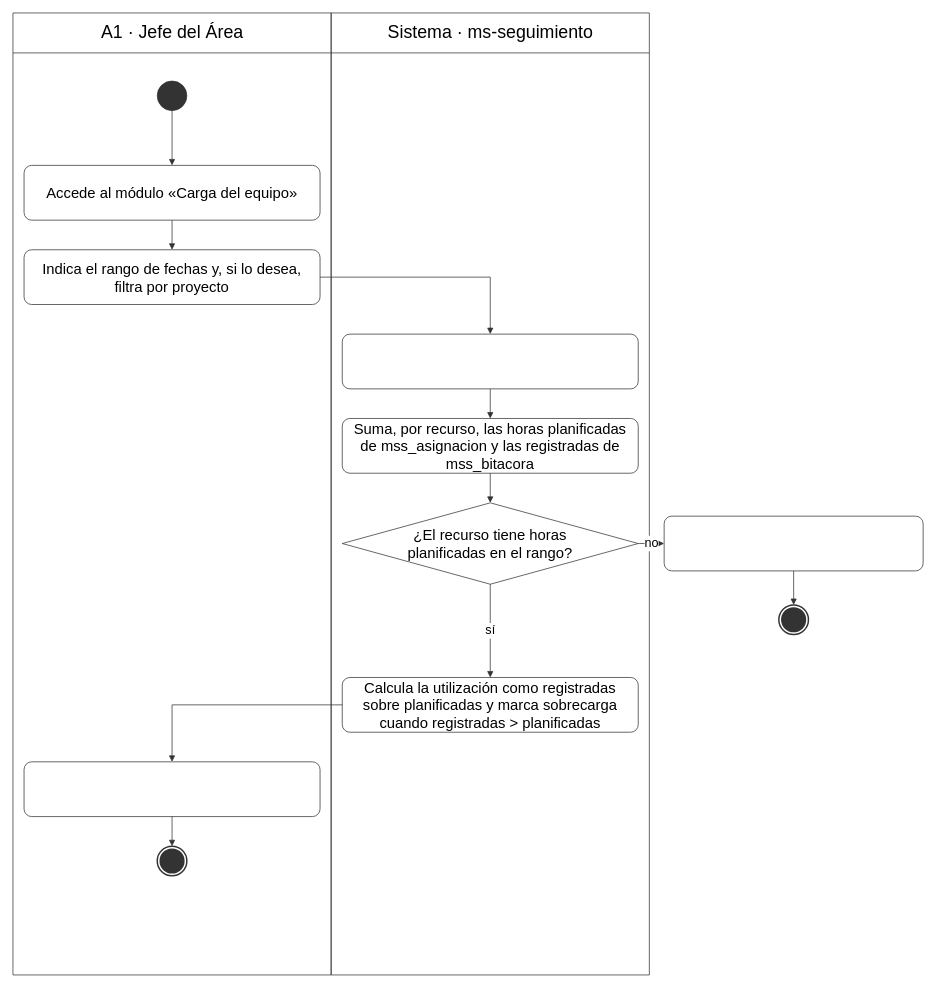
Image size: 936x988. Some labels were removed from this diagram. The shapes that lost their labels are listed below. From the top down, each one's centre as x and y in pixels, then its label:
the point at 490,361: Recibe GET /api/carga/equipo con el rango y las tareas del filtro
the point at 793,543: Utilización 0 % y sin marca de sobrecarga, aunque tenga horas registradas
the point at 171,789: Visualiza la carga del equipo y detecta los recursos en sobrecarga
